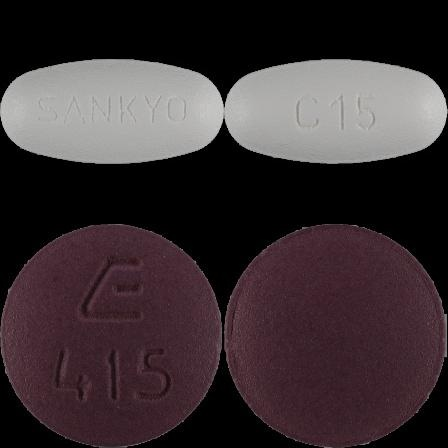54868-4885: (0, 0, 224, 224)
